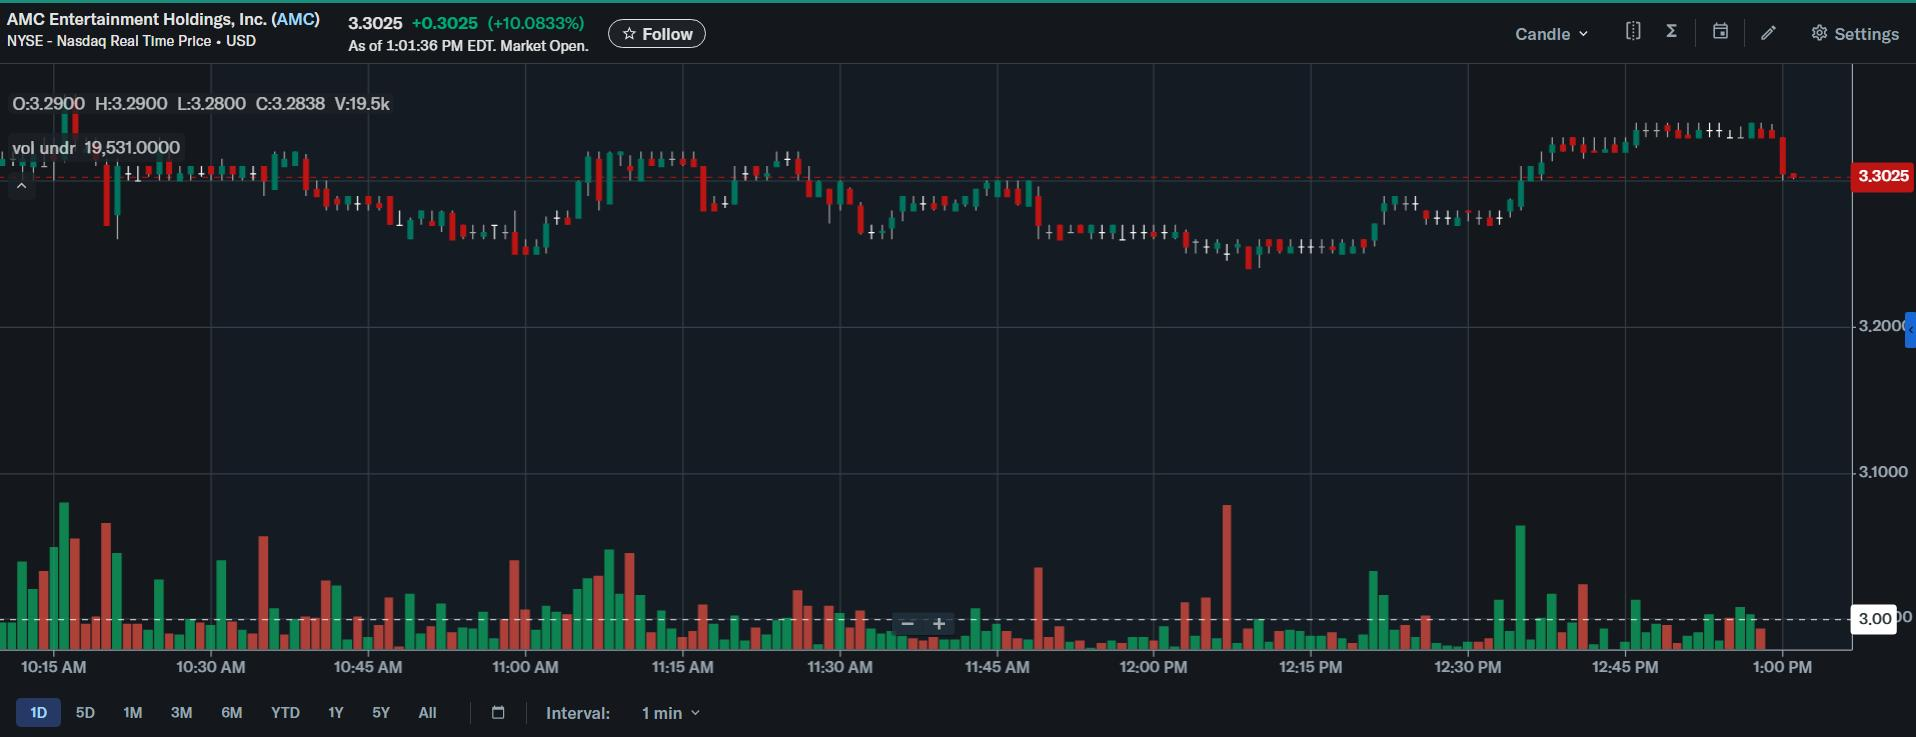Downtrend: (297, 160, 544, 265)
Sideways: (1029, 178, 1399, 269), (572, 144, 860, 222)
Uptrend: (1482, 127, 1570, 237)
